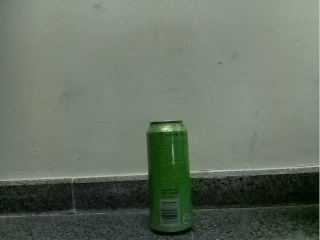botella plastico: (146, 120, 193, 234)
